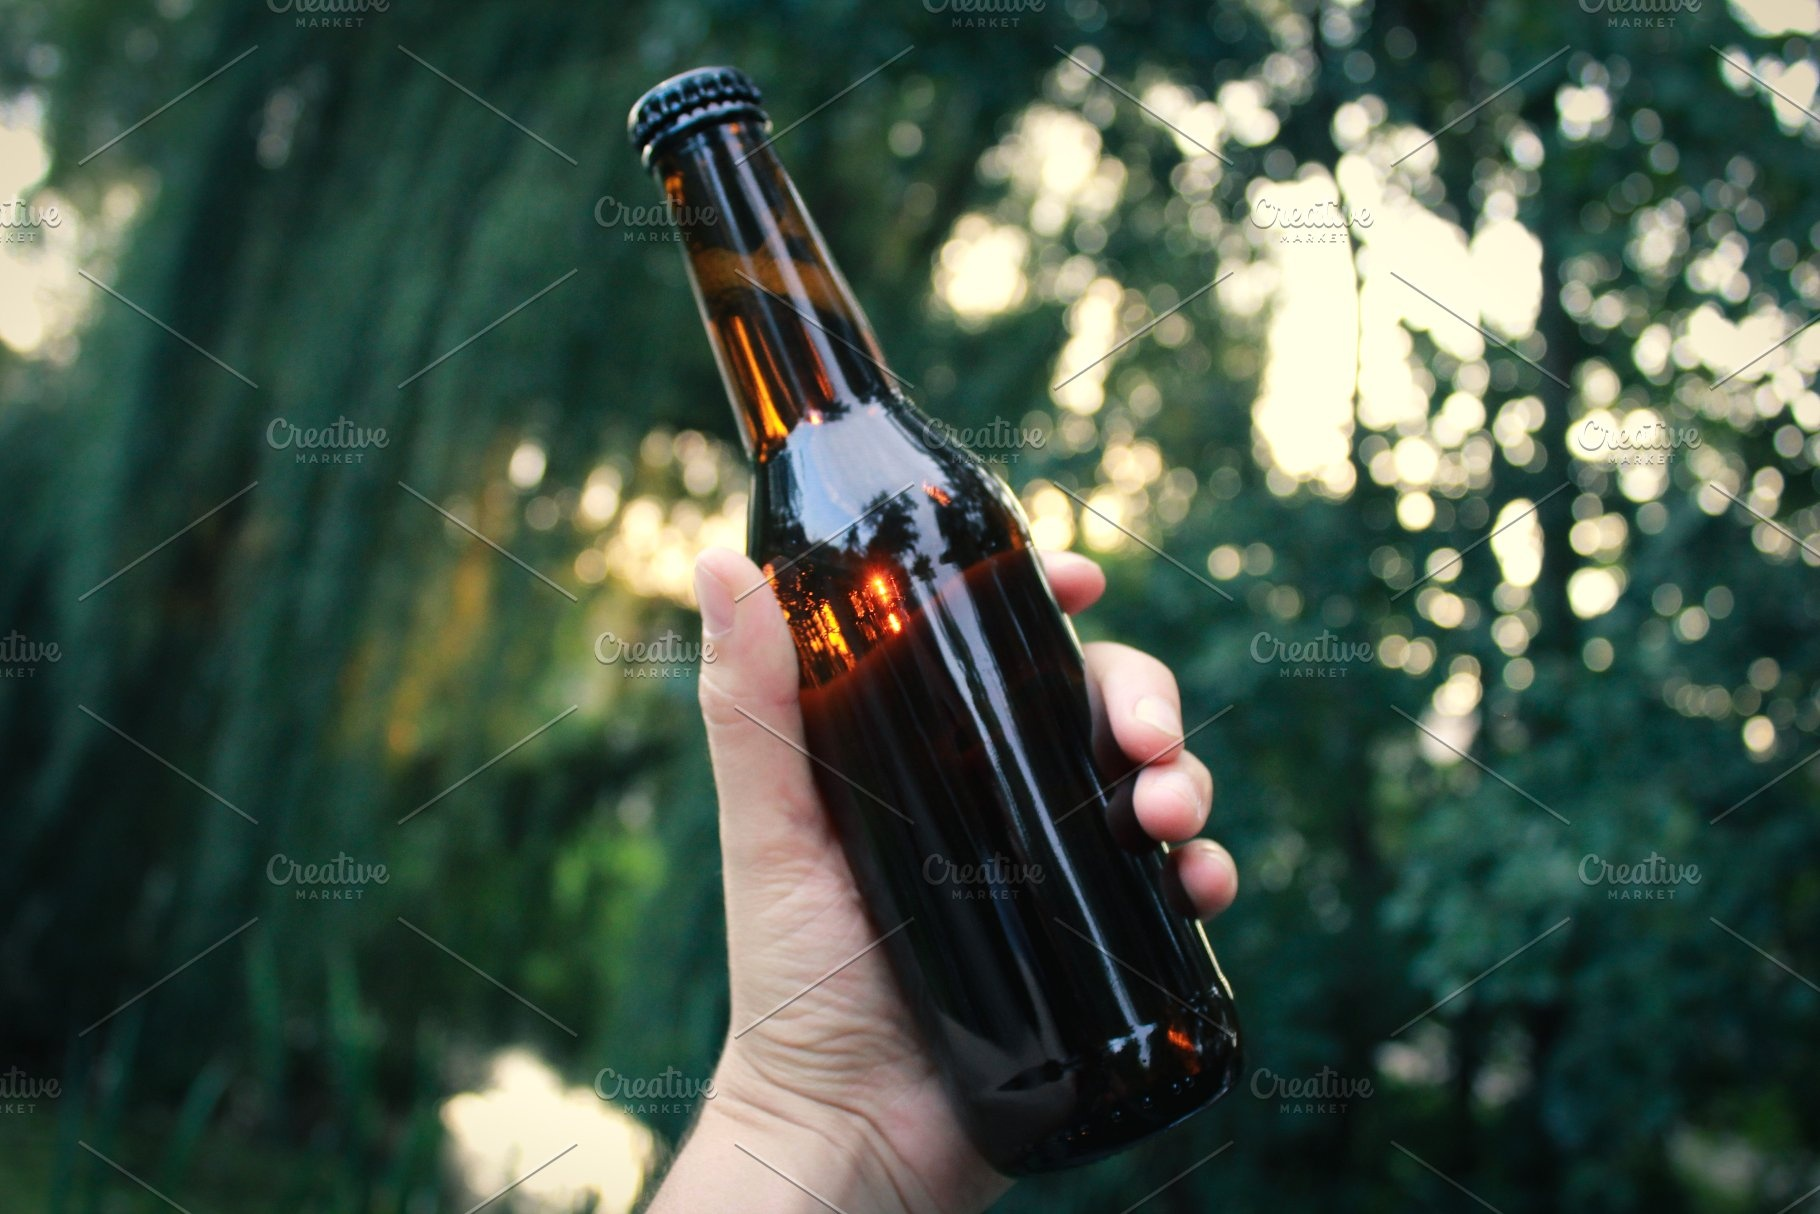beerBottle: (622, 65, 1246, 1139)
